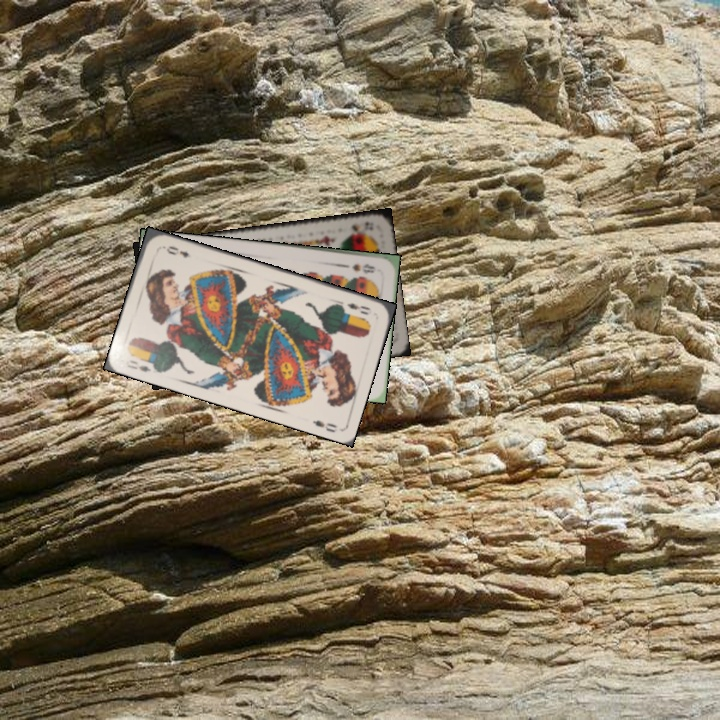EO: (343, 299, 373, 318), (122, 356, 153, 374)
S8: (348, 260, 377, 275)
SK: (348, 218, 376, 234)
